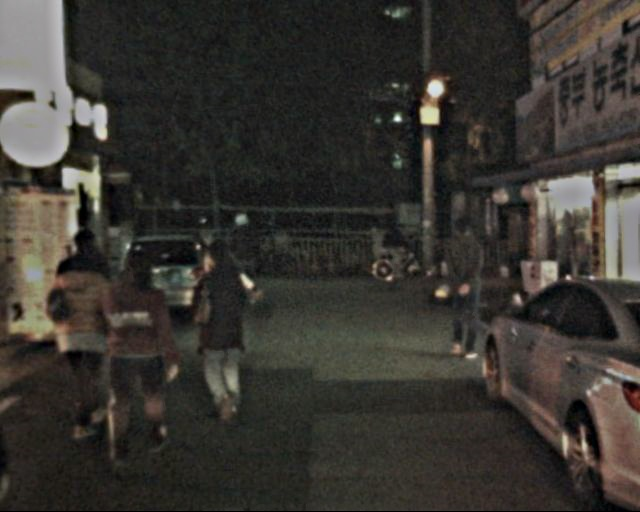person: (96, 246, 183, 457), (45, 248, 127, 439), (185, 241, 260, 425), (55, 224, 125, 385), (433, 217, 497, 364), (225, 210, 267, 311), (379, 216, 407, 284)
